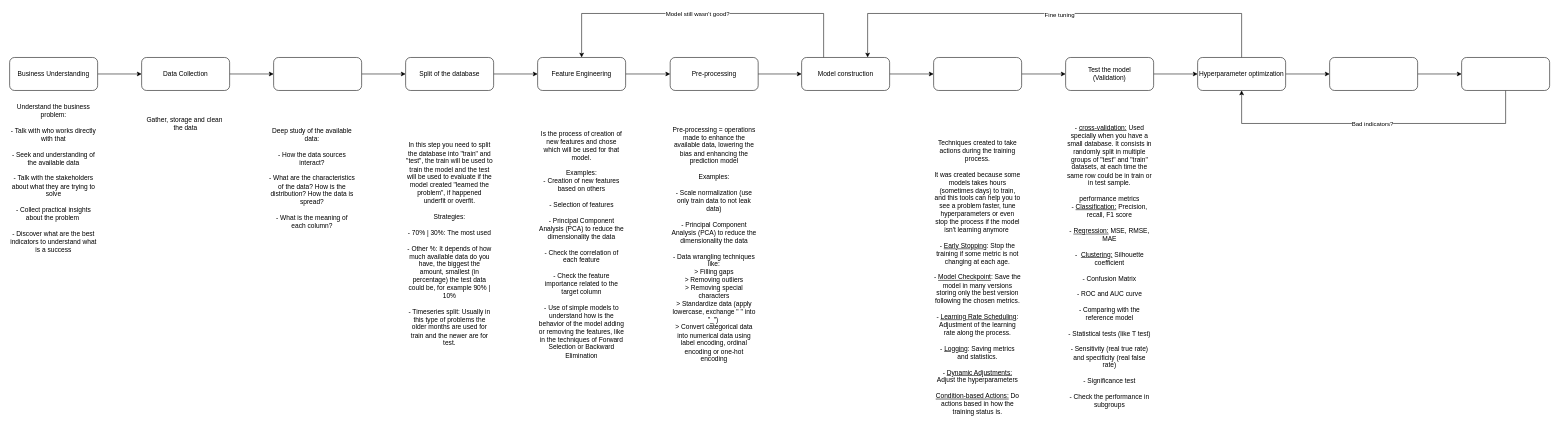
Some shapes in this 1559 by 441 pixel diagram are drawn without their labels. Here are the shapes that lost their labels. From the top down, the centre of each, then its label:
At point (317, 73): "Exploratory Analysis".
At point (977, 73): "Callbacks".
At point (1373, 73): "Deploy".
At point (1505, 73): "Follow indicators".
